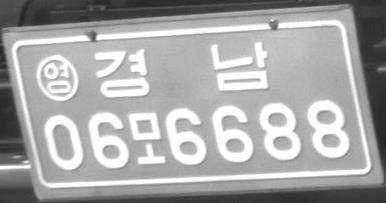0: (43, 113, 84, 171)
6: (87, 110, 130, 169), (164, 106, 207, 165), (211, 105, 254, 162)
8: (306, 99, 350, 158), (257, 102, 301, 160)
경남_D: (93, 41, 268, 98)
모: (130, 111, 166, 165)
영: (36, 54, 79, 102)
